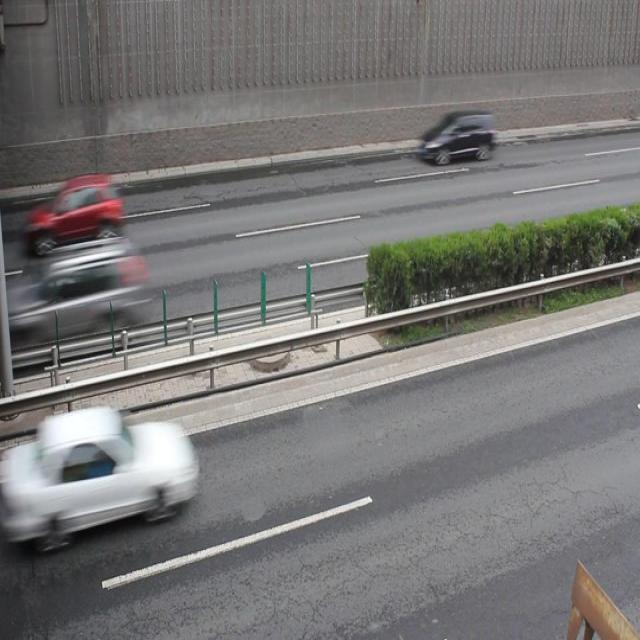car: (28, 408, 198, 545), (31, 239, 146, 348), (23, 172, 122, 253), (418, 106, 496, 167)
